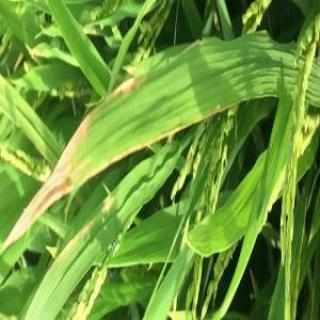Hawar-Daun: (49, 112, 92, 168), (24, 164, 71, 213), (2, 196, 36, 258), (104, 64, 144, 95), (98, 189, 113, 218)
